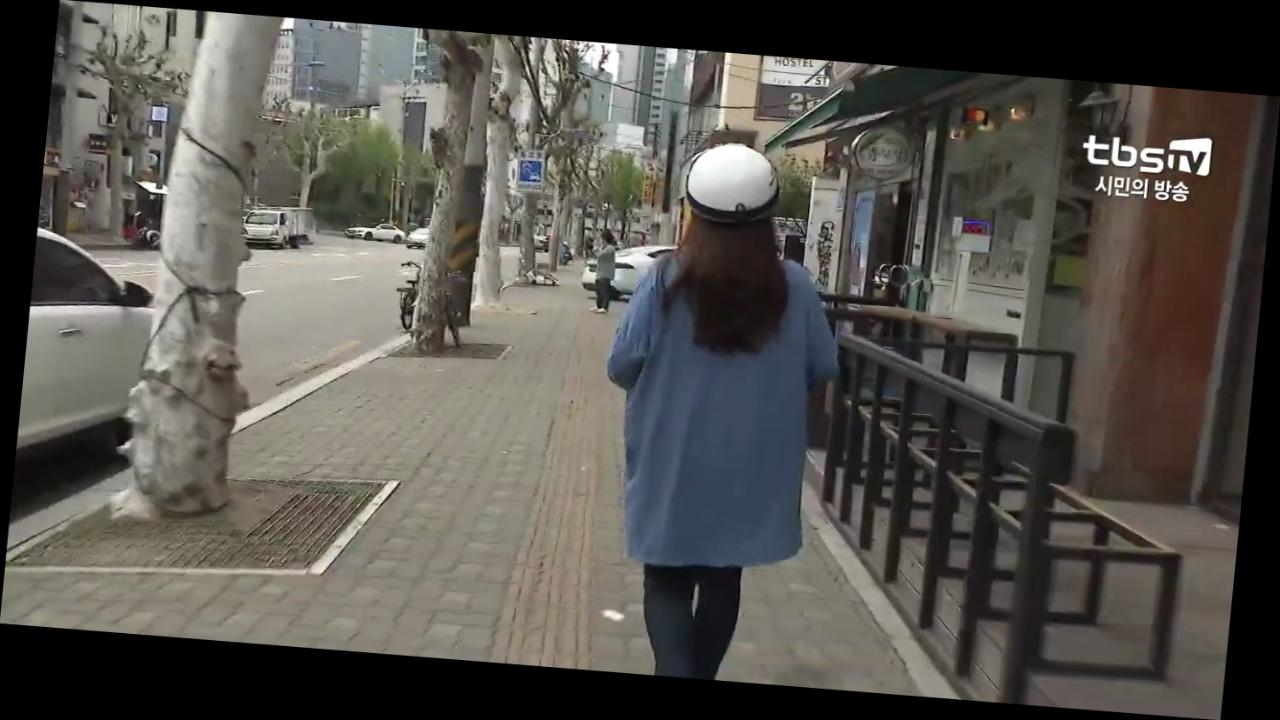helmet: (576, 131, 866, 688)
